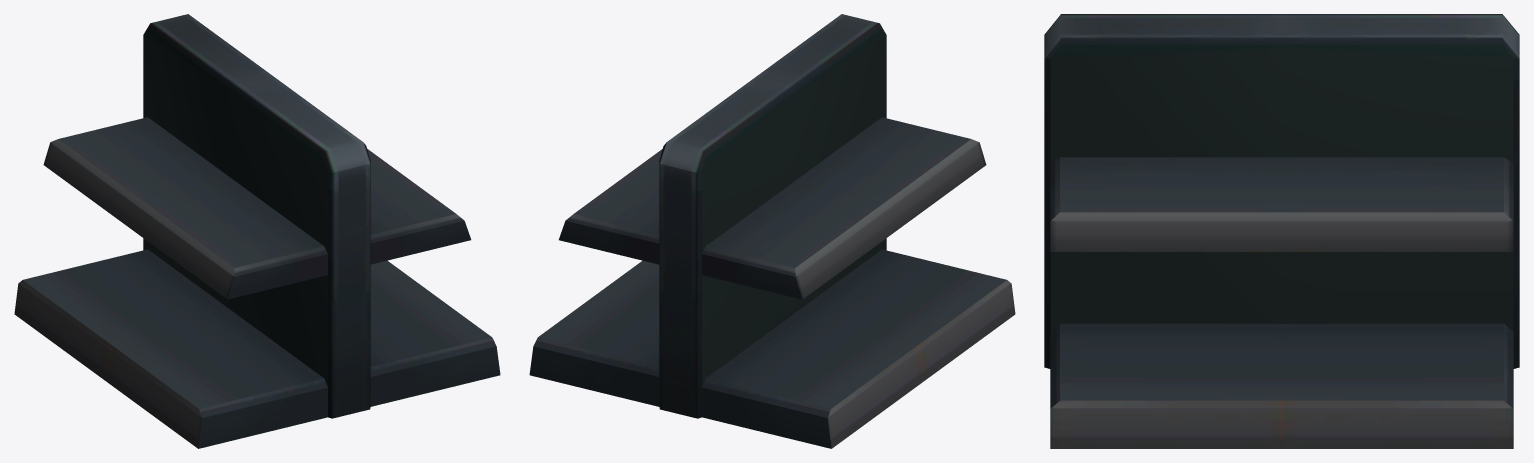
File: obj_productstand2 (merge).fbx
The picture shows the model from 3 angles, left to right: view 1: azimuth 30°, elevation 25°; view 2: azimuth 150°, elevation 25°; view 3: azimuth 270°, elevation 25°; orthographic projection. The views are drawn at different scales.
Visible parts, largest first — view 1: obj_productstand2; view 2: obj_productstand2; view 3: obj_productstand2.
Boxes of the visible parts, x1,y1,x2,y2 form: obj_productstand2: [14, 14, 500, 448]; obj_productstand2: [529, 14, 1015, 448]; obj_productstand2: [1044, 14, 1519, 448].
Size of the model in its own units: 1.86 by 1.54 by 2.01.
Materials: 1 (1 with a texture image).
